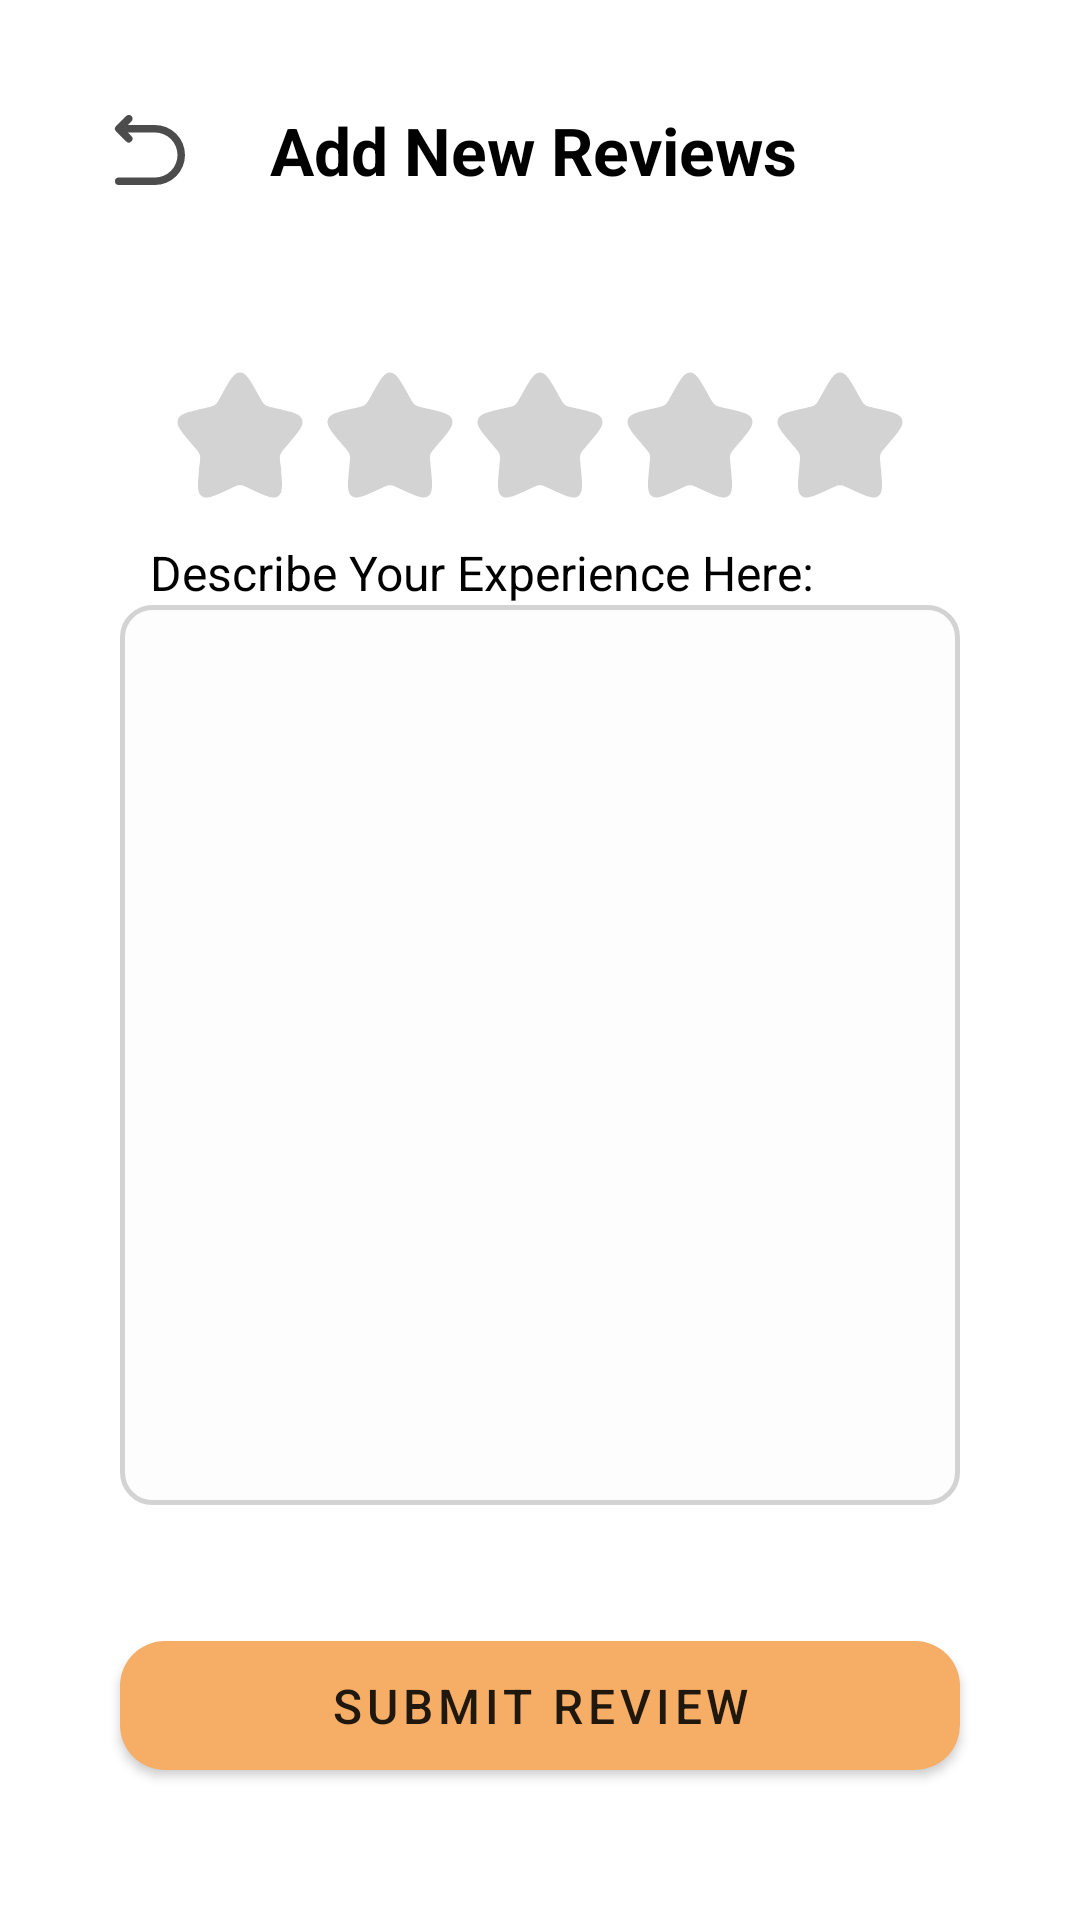

Named icons in this screenshot (1080×1920) and their bounding boxes, (x1, y1, x2, y2):
back arrow: (114, 115, 185, 185)
star: (178, 373, 302, 497), (328, 373, 452, 497), (478, 373, 602, 497), (628, 373, 752, 497), (778, 373, 902, 497)
